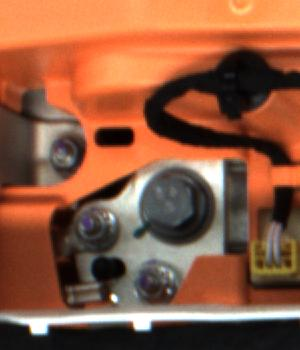nut_b: (133, 164, 214, 244)
